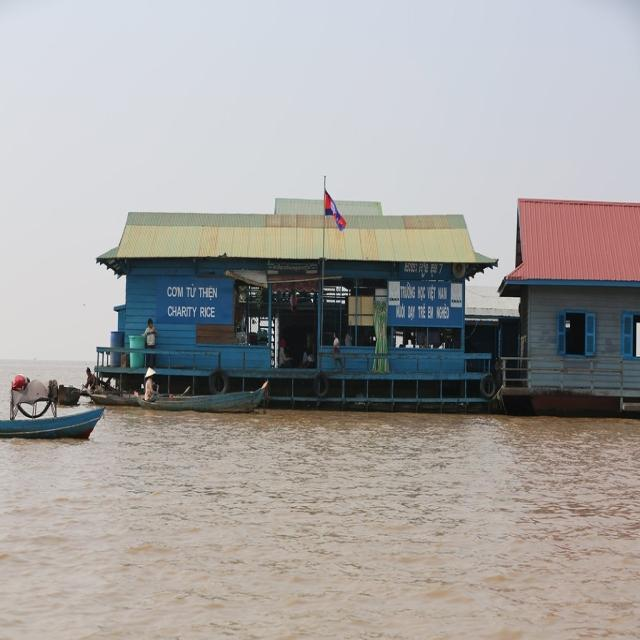boat: (92, 372, 286, 428)
